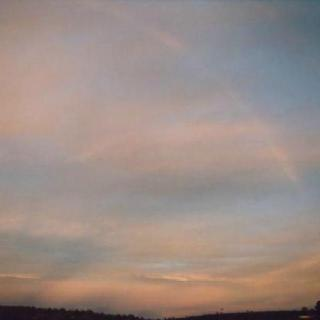Altostratus: (8, 0, 320, 312)
